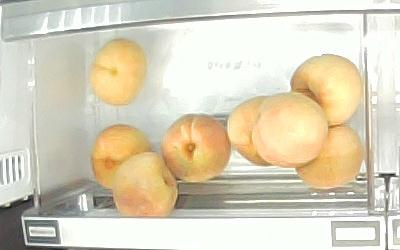peach: (252, 91, 329, 169), (290, 53, 362, 128), (160, 111, 232, 182), (296, 125, 364, 188), (89, 124, 152, 190), (88, 38, 147, 108), (114, 153, 178, 217), (227, 97, 271, 166)
